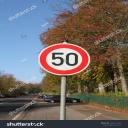speed_limit_50: (38, 43, 89, 76)
